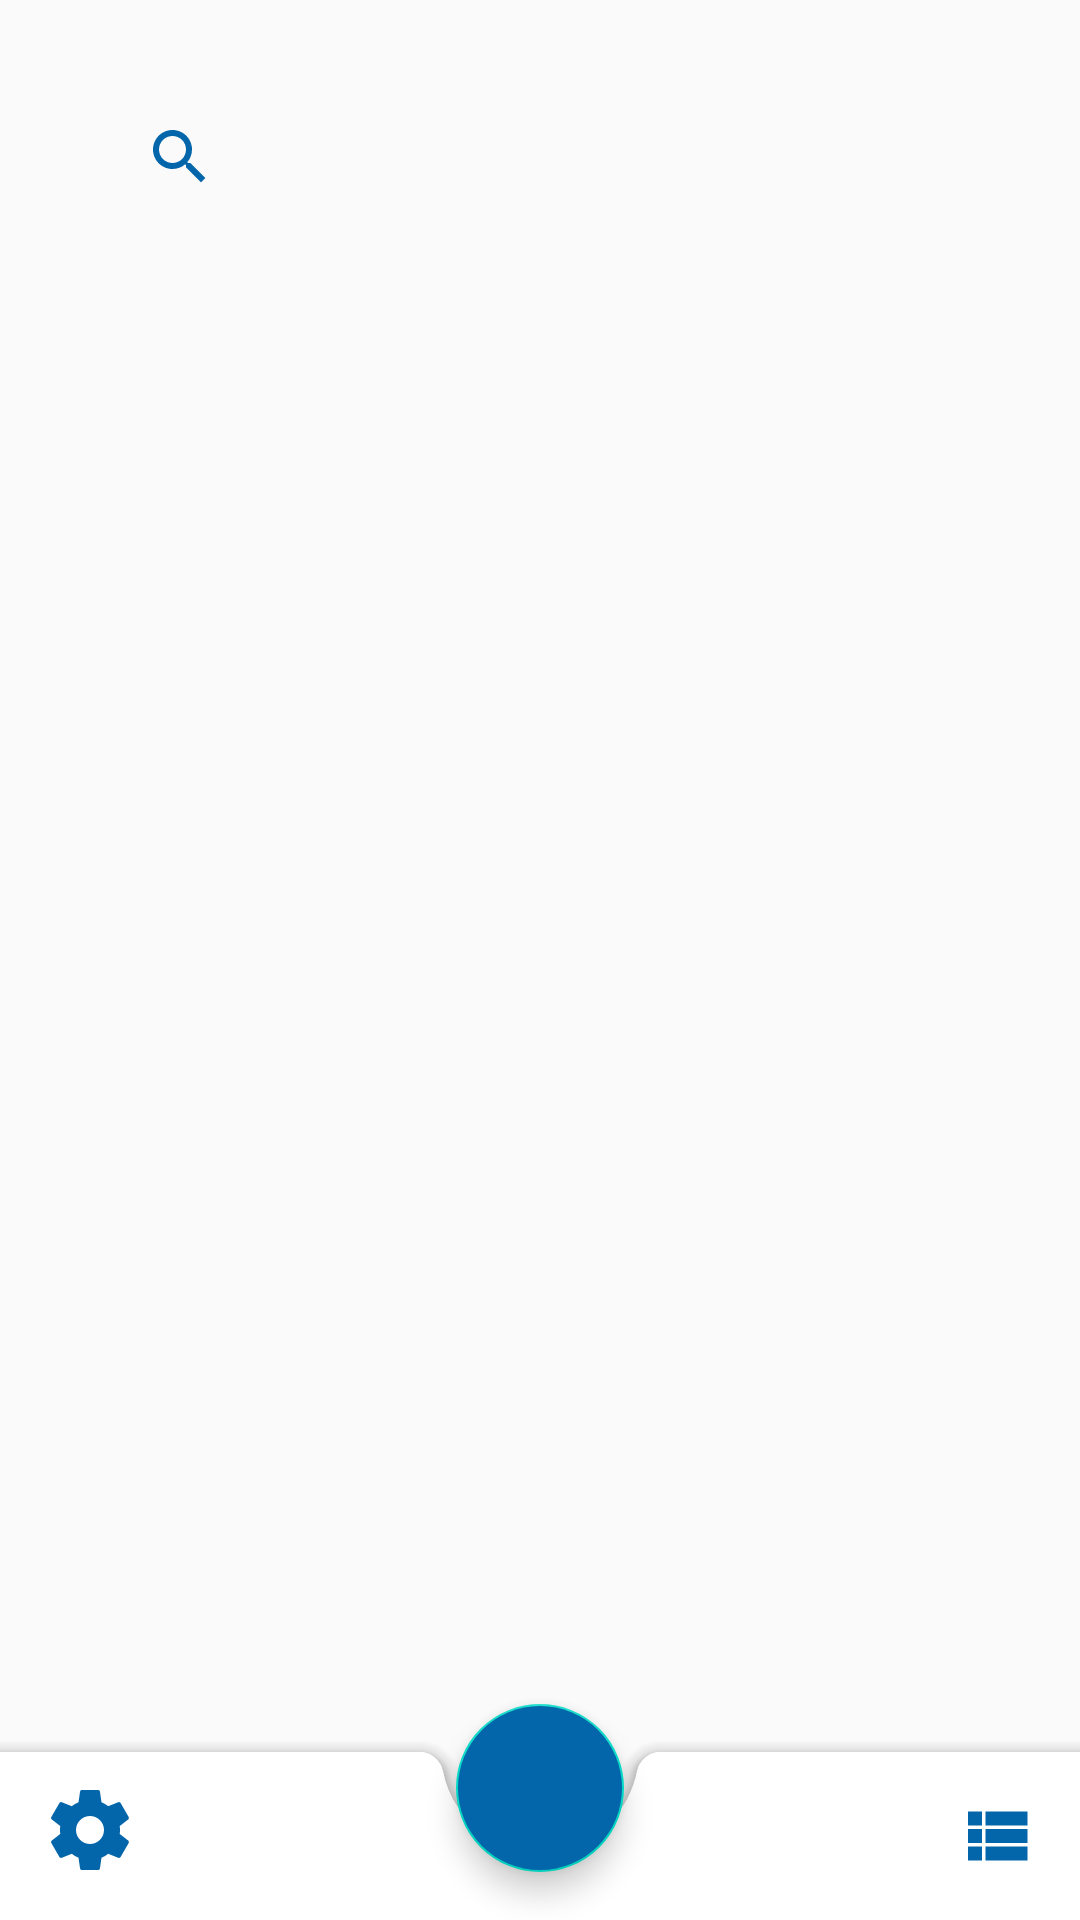

Named icons in this screenshot (1080 × 1920) and their centers, [x,y]:
search: [179,156]
settings: [90,1830]
view list: [998,1836]
